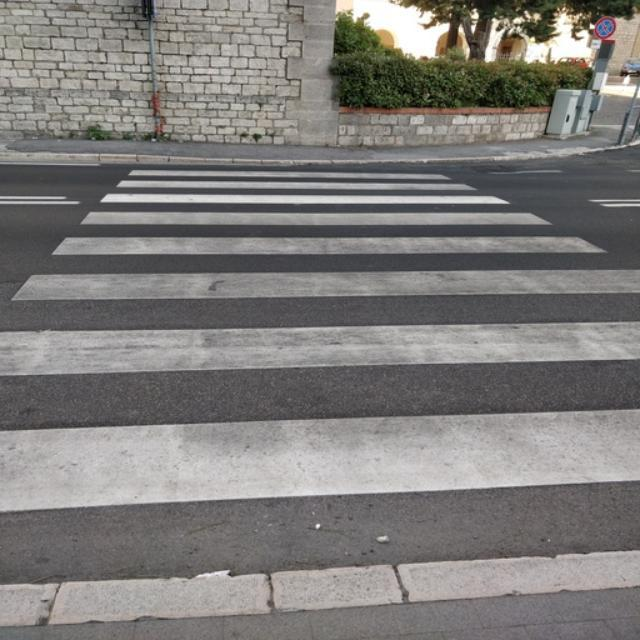sidewalk: (0, 169, 639, 515)
